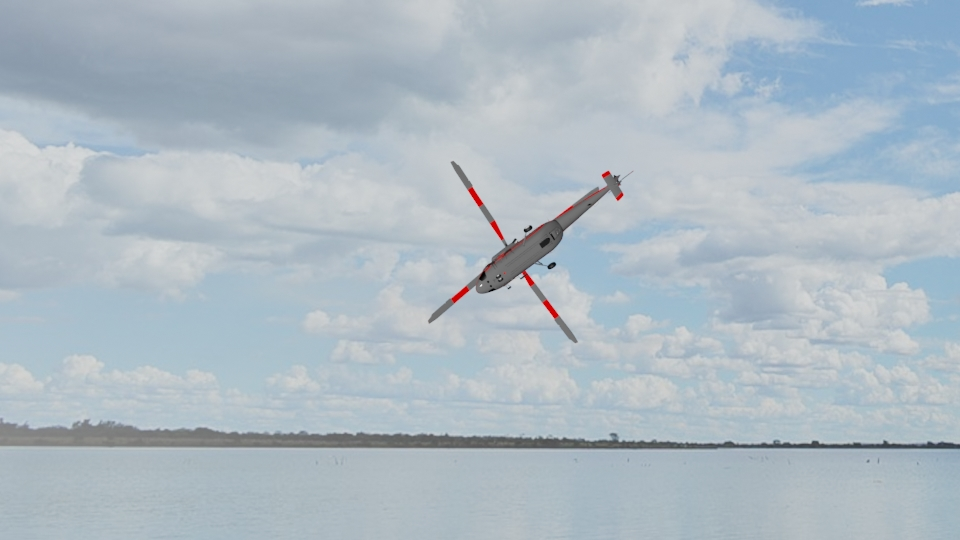heli: (428, 153, 629, 339)
